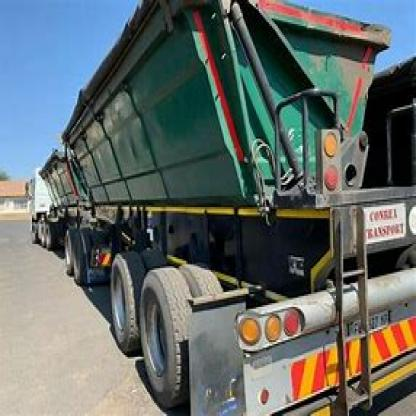dump_truck: (14, 4, 414, 414)
